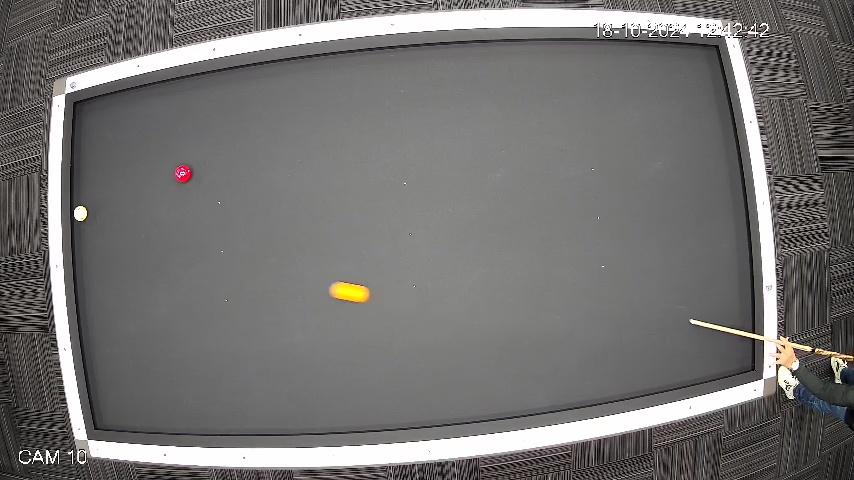Red: (173, 164, 194, 185)
White: (71, 204, 90, 222)
Yellow: (328, 280, 373, 305)
